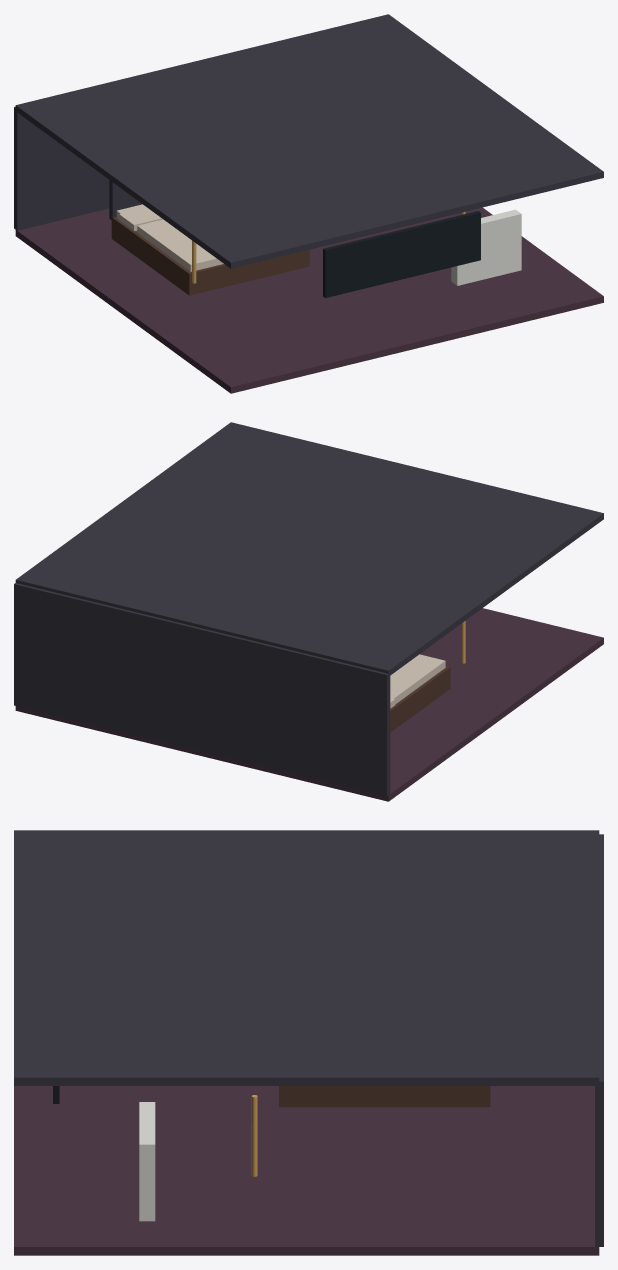
File: hotel-suite-hosting.glb
The picture shows the model from 3 angles, top to bottom: view 1: azimuth 30°, elevation 25°; view 2: azimuth 150°, elevation 25°; view 3: azimuth 270°, elevation 25°; orthographic projection. The views are drawn at different scales.
Parts seen in each view (by area): view 1: hotel-suite-hosting; view 2: hotel-suite-hosting; view 3: hotel-suite-hosting.
Boxes of the visible parts, left/top/right/bottom form: hotel-suite-hosting: left=14, top=14, right=603, bottom=393; hotel-suite-hosting: left=14, top=422, right=603, bottom=801; hotel-suite-hosting: left=14, top=830, right=603, bottom=1255.
Bounding box in the file's own units: 18 × 6.04 × 18.14.
